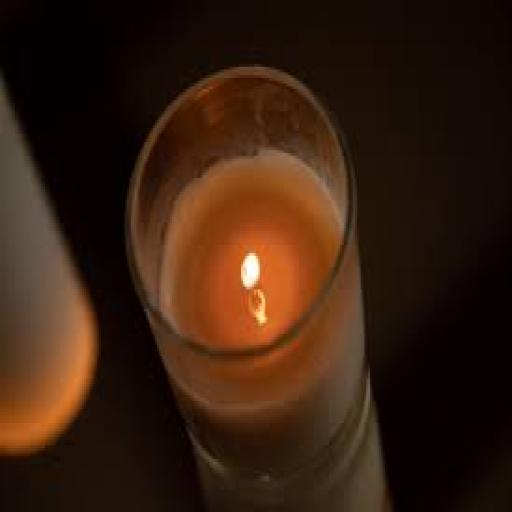fire: (228, 231, 269, 292)
